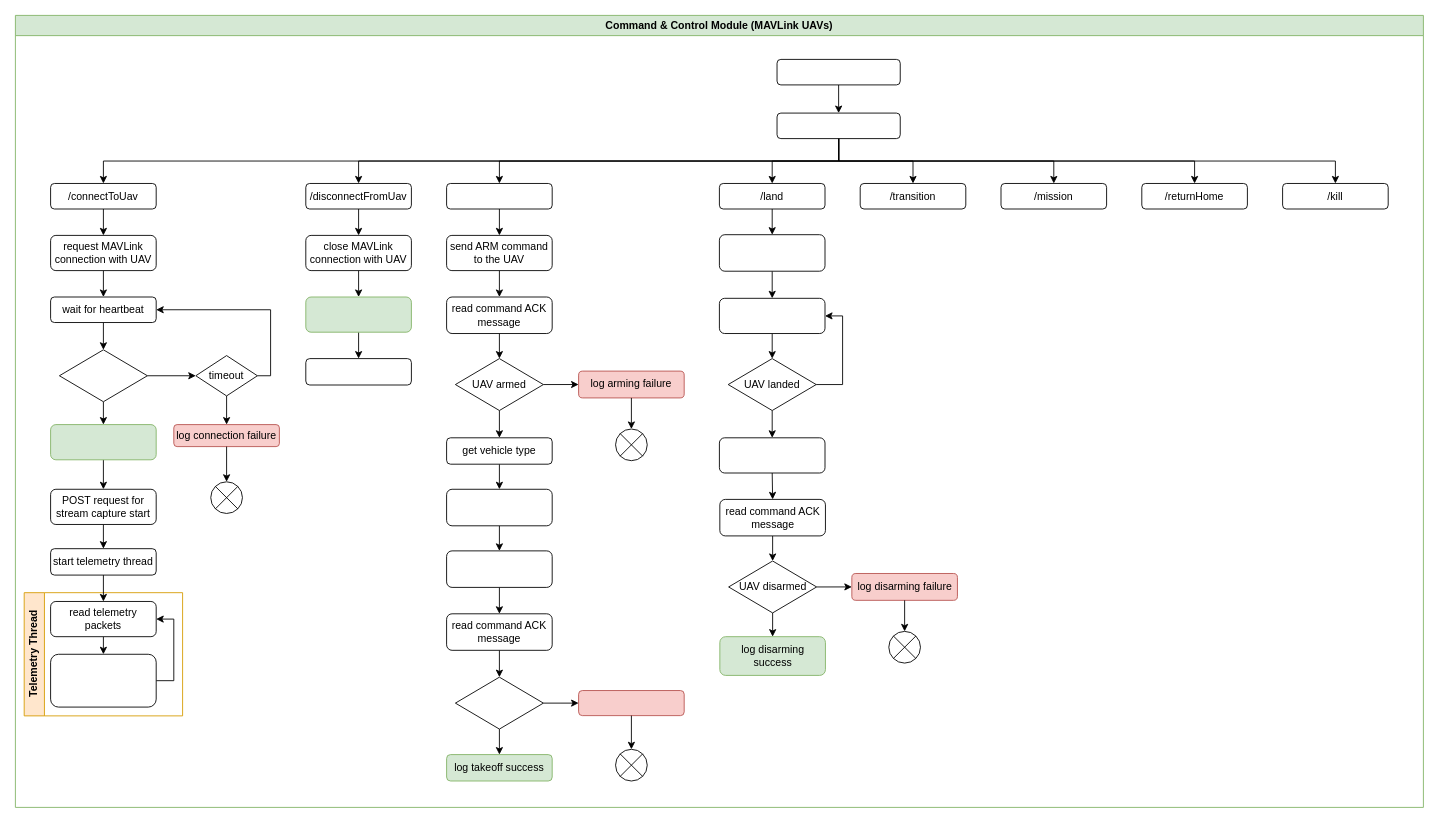
Image size: 1439x823. Some labels were removed from this diagram. Each missing label, with the centre of its shape:
"/takeoff" goes at (x=499, y=196).
"broadcast telemetry to Kafka topic UAV_Telemetry" goes at (x=103, y=680).
"check UAV landed state" goes at (x=772, y=315).
"command accepted" goes at (x=499, y=702).
"connect to Kafka server" goes at (x=838, y=72).
"heartbeat received" goes at (x=103, y=375).
"log connection success" goes at (x=103, y=442).
"log disconnection success" goes at (x=358, y=314).
"log takeoff failure" goes at (x=631, y=703).
"send DISARM command to the UAV" goes at (x=772, y=455).
"send takeoff command to the UAV" goes at (x=499, y=568).
"set flight mode based on vehicle type" goes at (x=499, y=507).
"set flight mode to LAND" goes at (x=772, y=252).
"start api on port 8769" goes at (x=838, y=125).
"stop telemetry thread" goes at (x=358, y=371).
